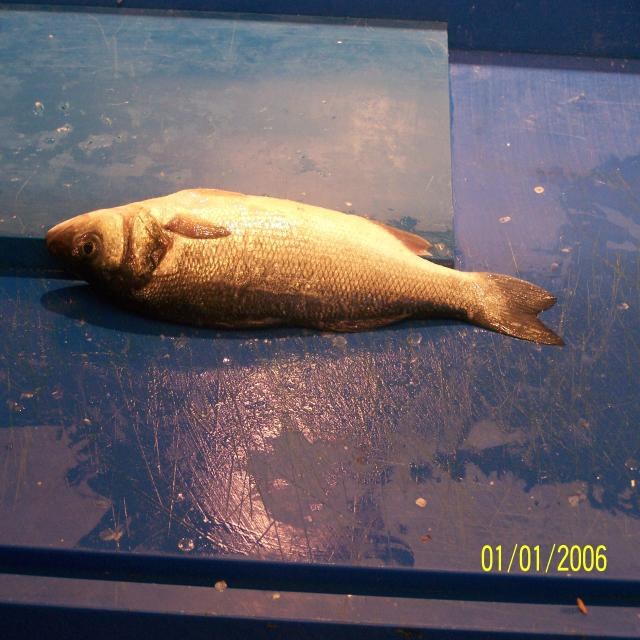Sea-Bass-levrek-: (45, 189, 562, 348)
